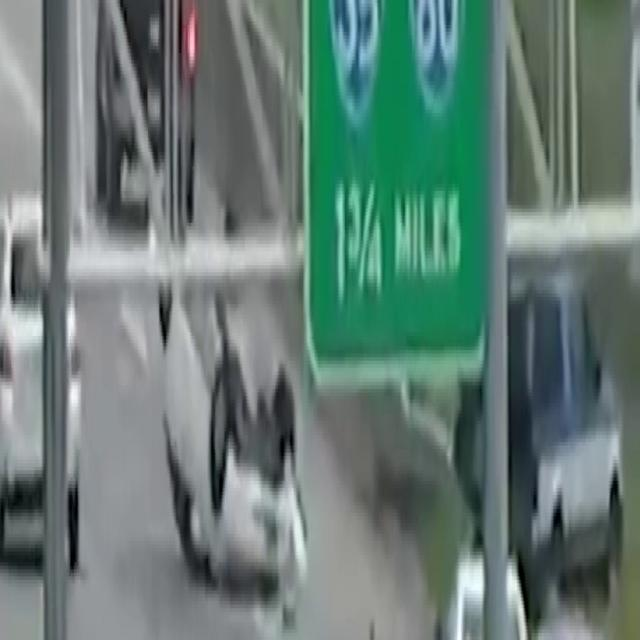accident: (158, 223, 306, 630)
